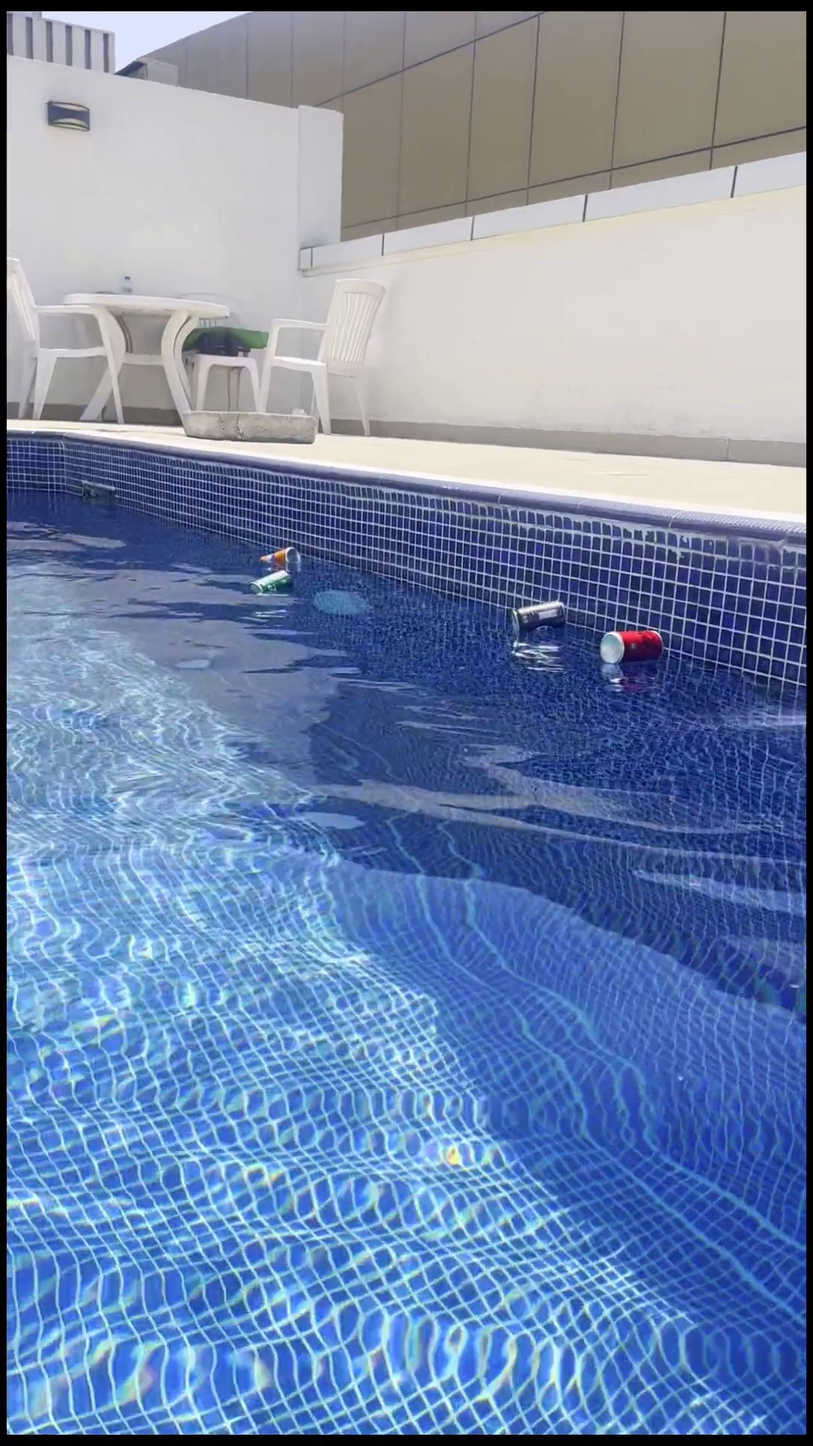debris: (596, 609, 665, 684), (503, 594, 567, 664), (251, 558, 295, 606), (254, 538, 301, 578)
